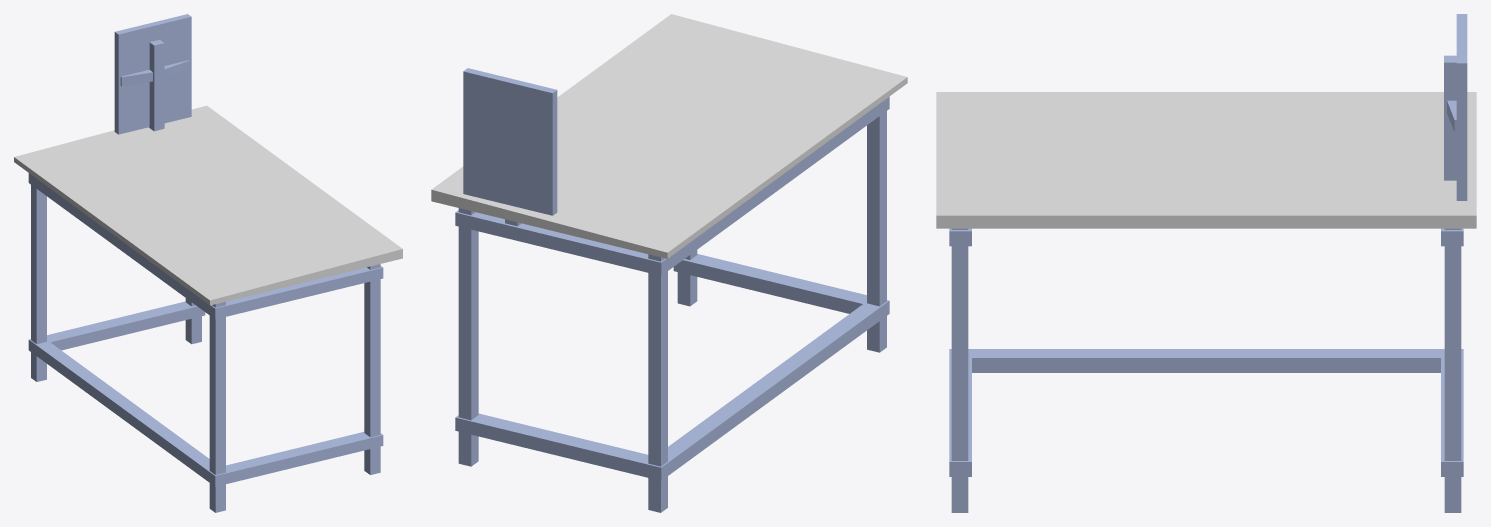
File: busstop.fbx
The picture shows the model from 3 angles, left to right: view 1: azimuth 30°, elevation 25°; view 2: azimuth 150°, elevation 25°; view 3: azimuth 270°, elevation 25°; orthographic projection. The views are drawn at different scales.
Visible parts, largest first — view 1: roof, mainbody; view 2: roof, mainbody; view 3: roof, mainbody.
Part boxes in pixels (bbox=[...]): roof: bbox=[14, 105, 402, 305]; mainbody: bbox=[28, 14, 383, 512]; roof: bbox=[431, 14, 907, 258]; mainbody: bbox=[455, 68, 889, 512]; roof: bbox=[936, 92, 1476, 228]; mainbody: bbox=[949, 14, 1467, 512].
Size of the model in its own units: 243 by 389 by 428.
